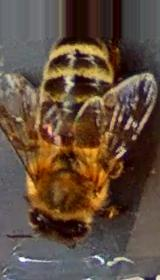varroa_mite: (30, 114, 70, 150)
